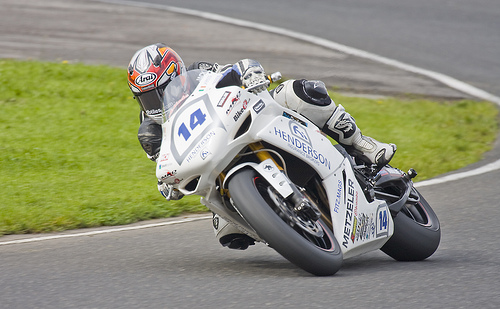helmet: (120, 45, 189, 109)
